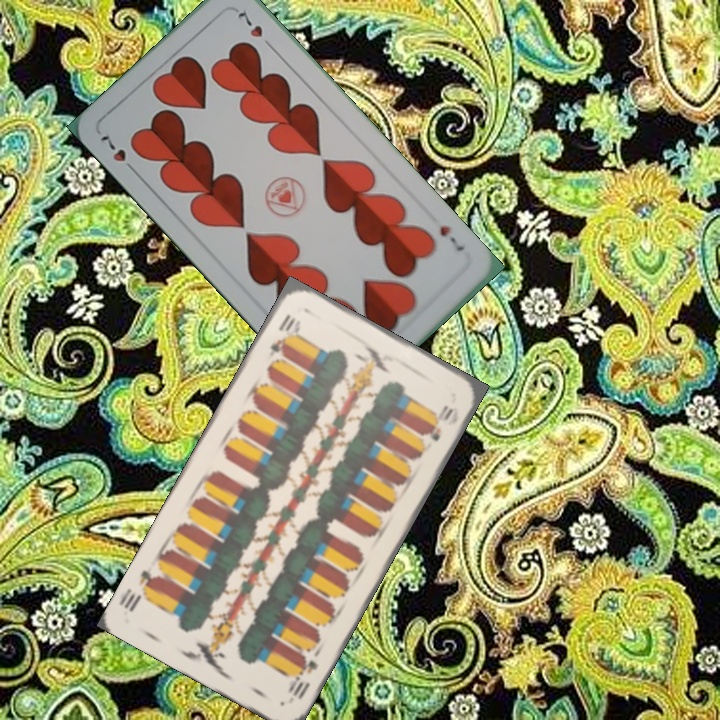E10: (283, 652, 321, 702), (265, 309, 298, 359)
H7: (95, 129, 140, 177), (435, 221, 468, 254)
